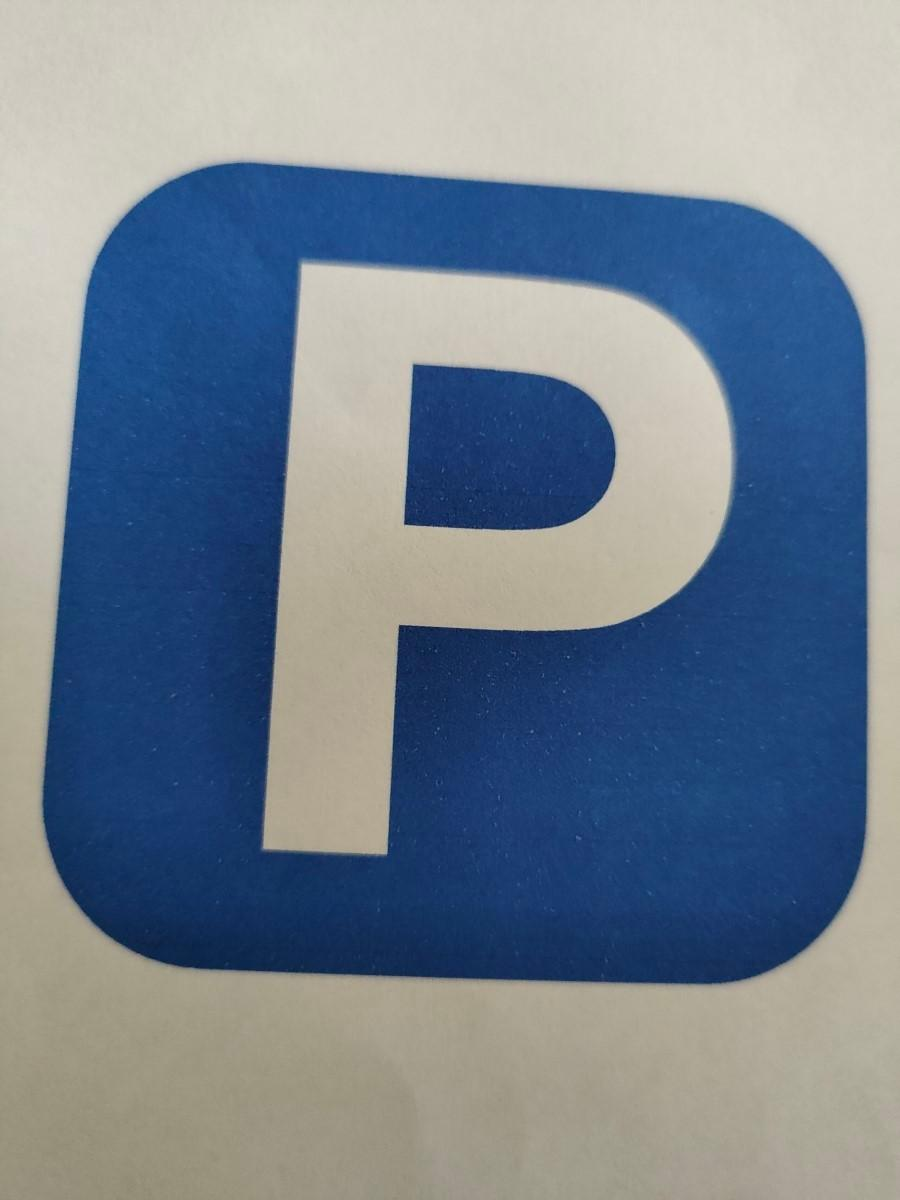parking: (47, 167, 867, 983)
